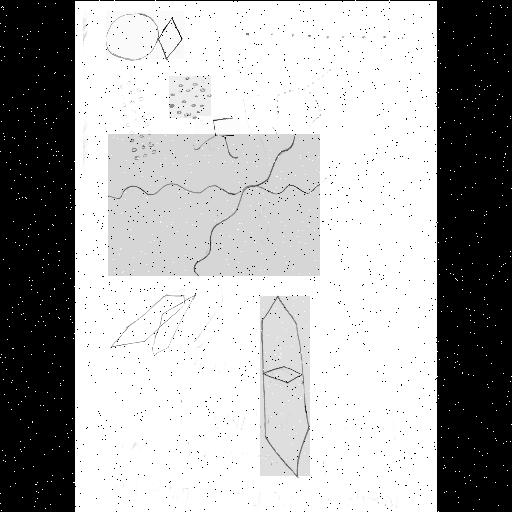shape-1: (106, 11, 184, 59)
shape-2: (246, 28, 402, 42)
shape-3: (115, 66, 157, 160)
shape-4: (169, 76, 211, 118)
shape-5: (194, 116, 240, 158)
shape-6: (276, 64, 334, 120)
shape-7: (108, 134, 320, 276)
shape-8: (112, 293, 194, 355)
shape-9: (260, 296, 310, 476)
